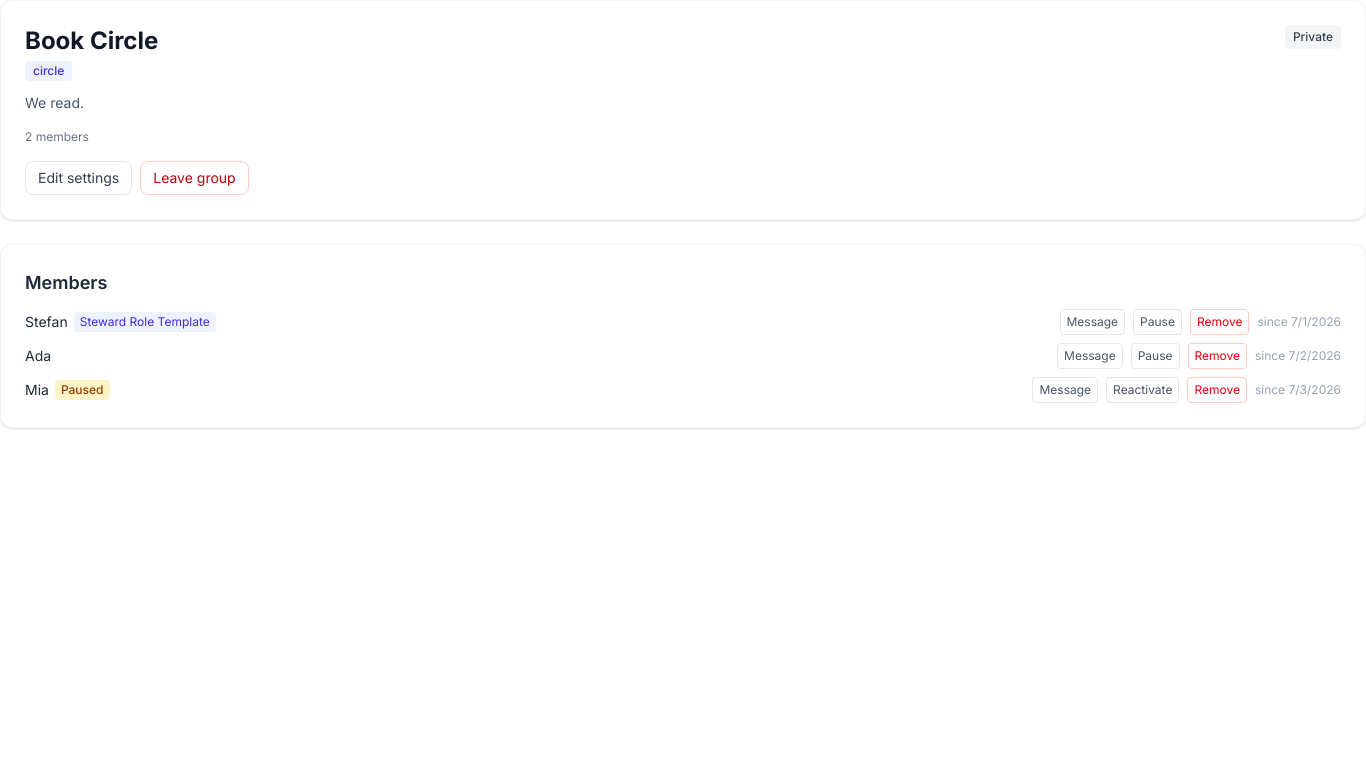
Test: FEAT-H016 — member lifecycle actions + Leave (STORY-1/2/3) › surfaces the last-active-Steward refusal in place — the row stays
What coordinates should you click on to do the following:
click the button with test id "remove-member-pg-stefan"
I would click on:
 (1220, 322)
Its box is [1190,309,1249,335].
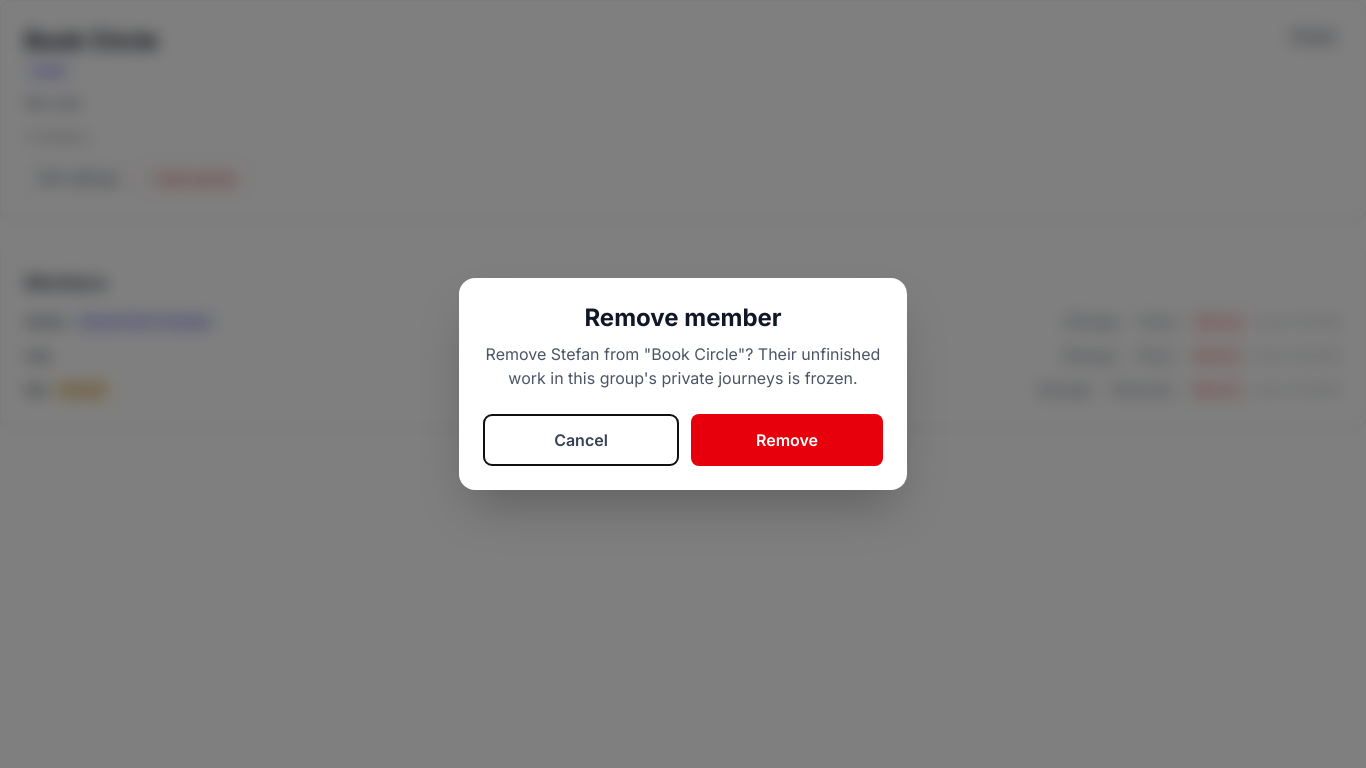
What coordinates should you click on to do the following:
click the button with test id "confirm-modal-confirm"
I would click on:
 (787, 440)
Its box is [691,414,883,466].
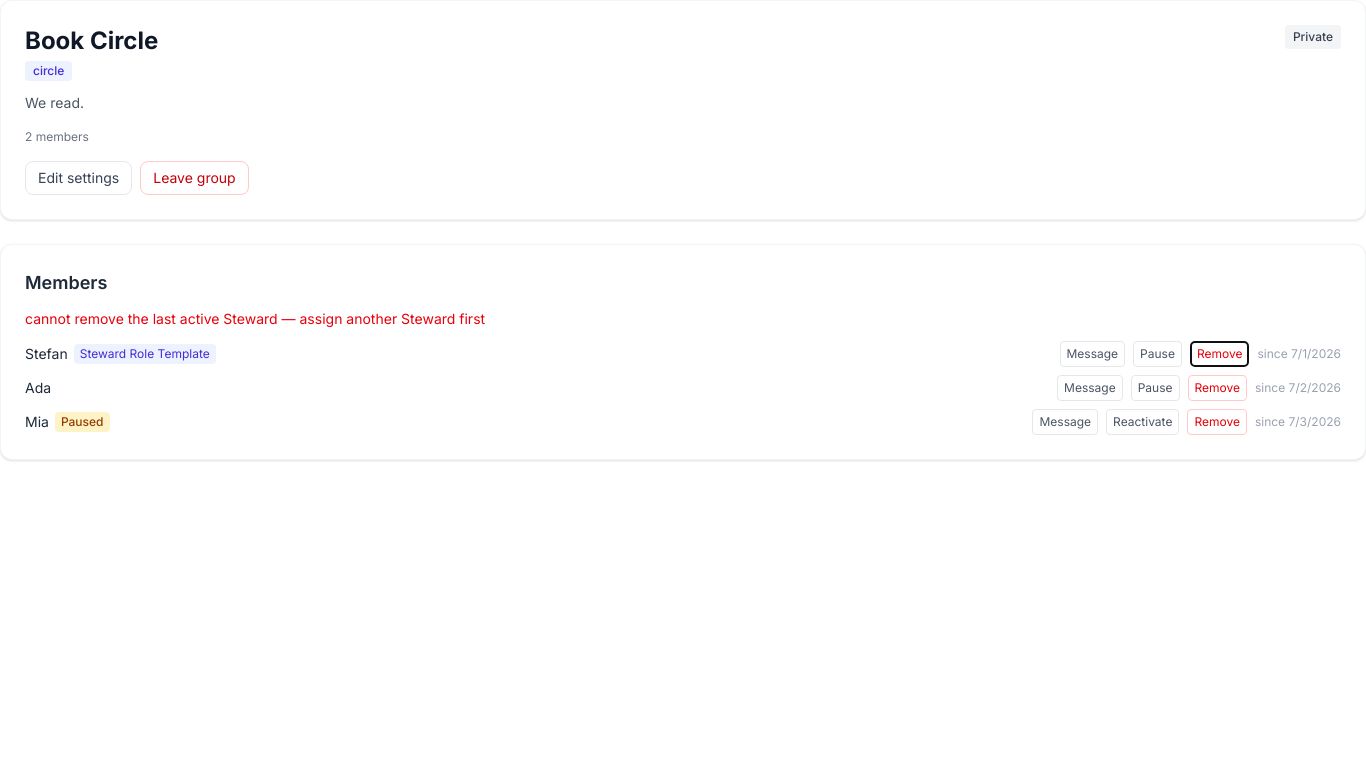
Expected: the list item with test id "member-row-pg-stefan" is shown, [25,341,1341,367]
Now the message shows "last active Steward", box [25,310,485,327]
